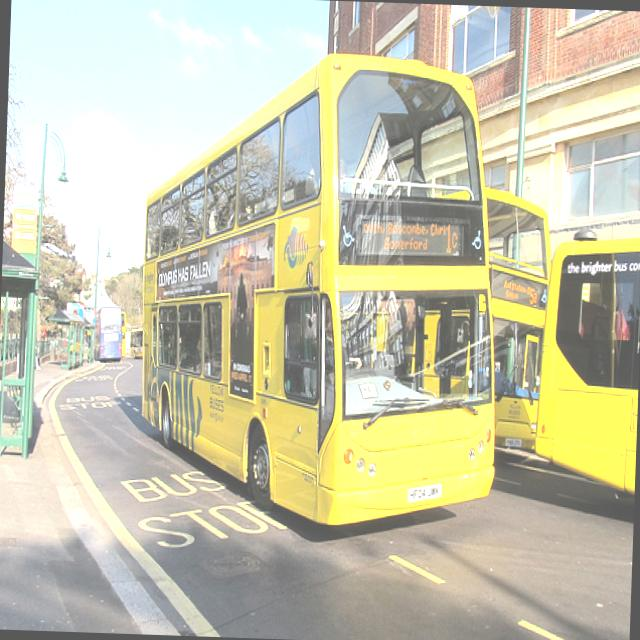Vehicle: (135, 49, 506, 531), (528, 235, 640, 498), (475, 186, 553, 458), (94, 307, 123, 362), (120, 311, 127, 356)
